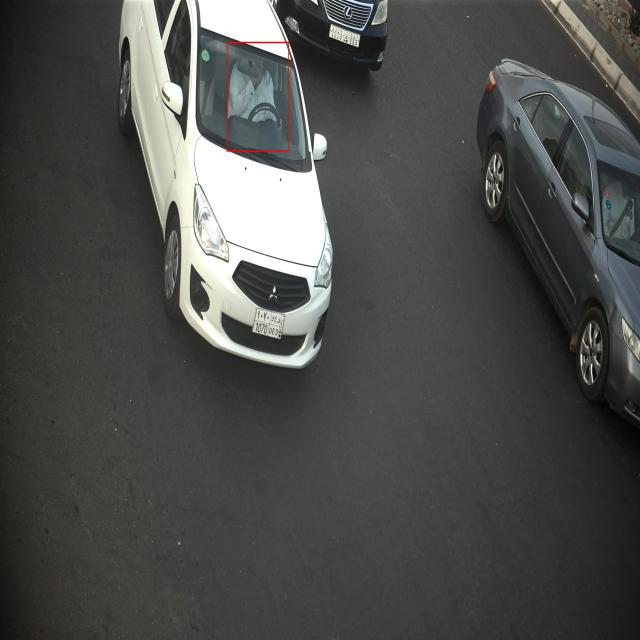windshield: (191, 19, 311, 176), (595, 160, 640, 268)
